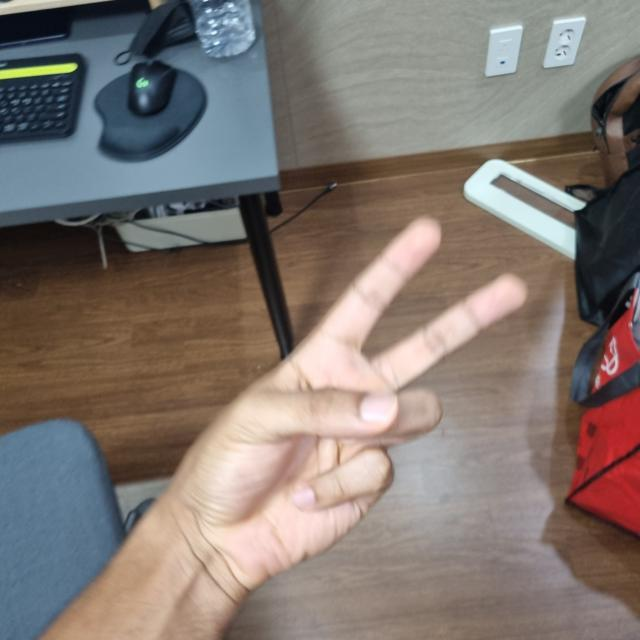Scissors: (196, 222, 522, 580)
